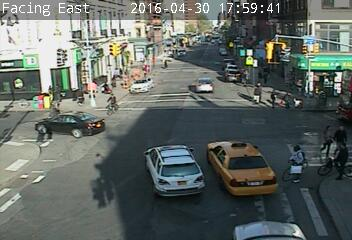pos: (321, 124, 339, 147), (251, 80, 267, 102), (266, 88, 281, 107), (161, 58, 169, 68)
